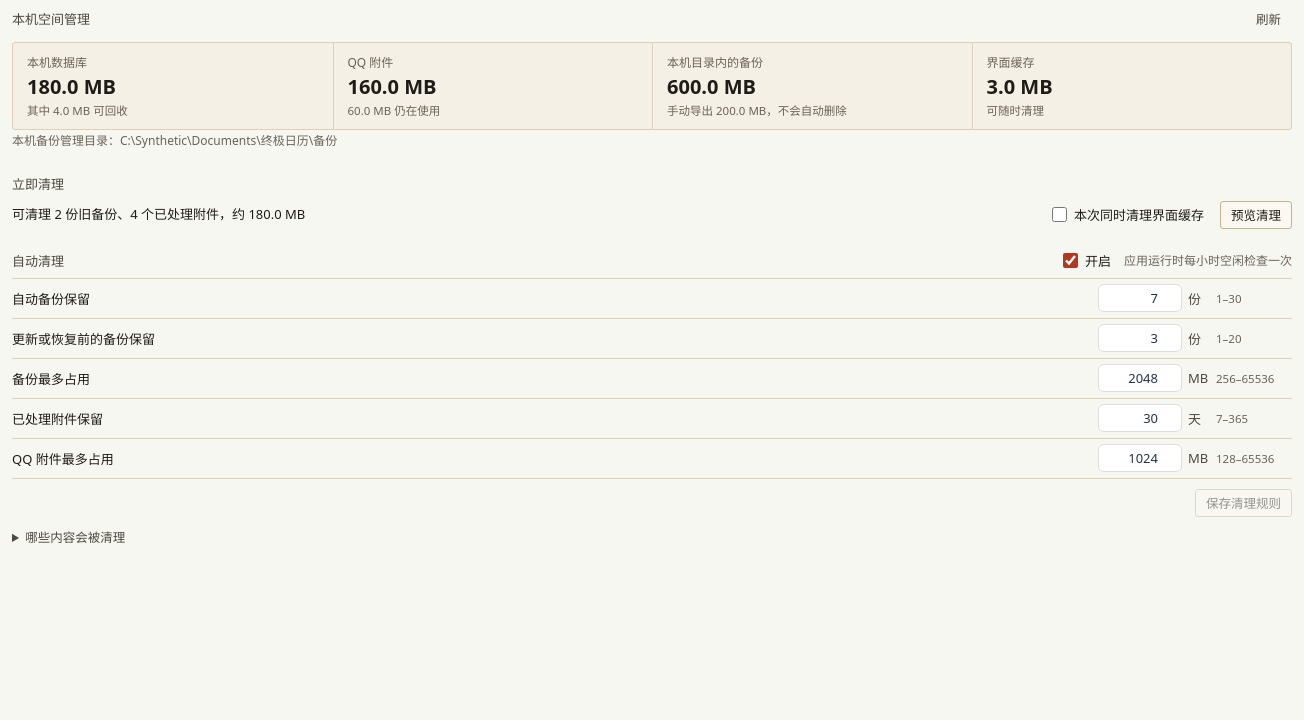
Test case: space management › keeps failed cleanup visible and never reports it as completed
Expected: the text "180.0 MB" is shown, [27,73,116,100]
What coordinates should you click on to do the following:
click the button "预览清理"
I would click on:
 (1256, 215)
Its box is [1220,201,1292,229].
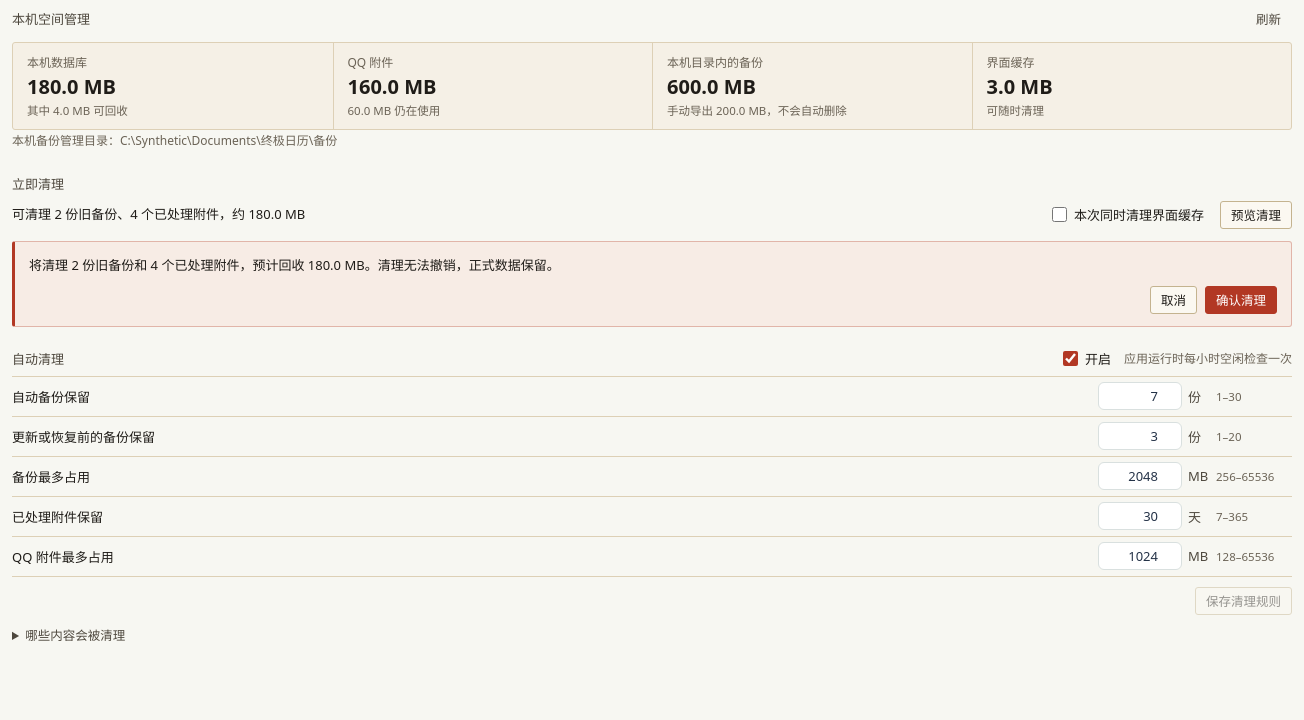
What coordinates should you click on to do the following:
click the button "确认清理"
I would click on:
 (1241, 300)
Its box is [1205,286,1277,314].
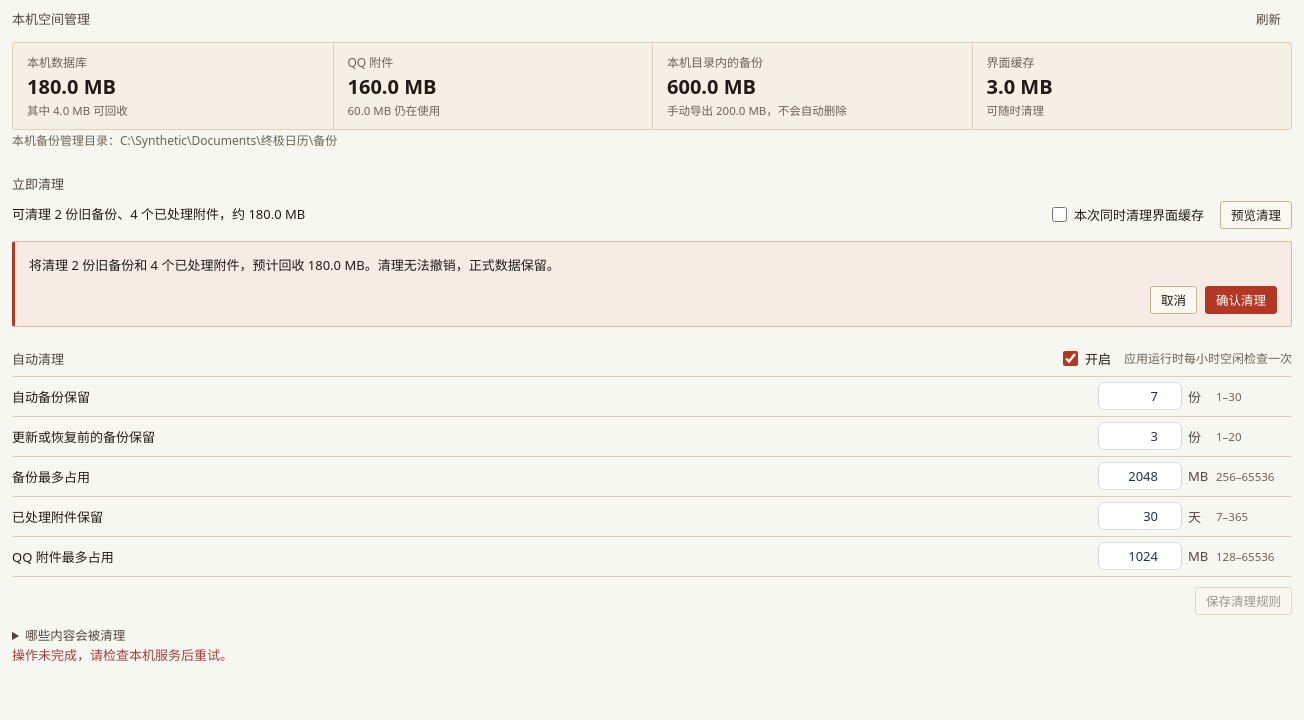
Now the element named "确认空间清理" is shown, box [12,241,1292,327]
Now the message "操作未完成，请检查本机服务后重试。" is shown, box [12,646,233,664]
